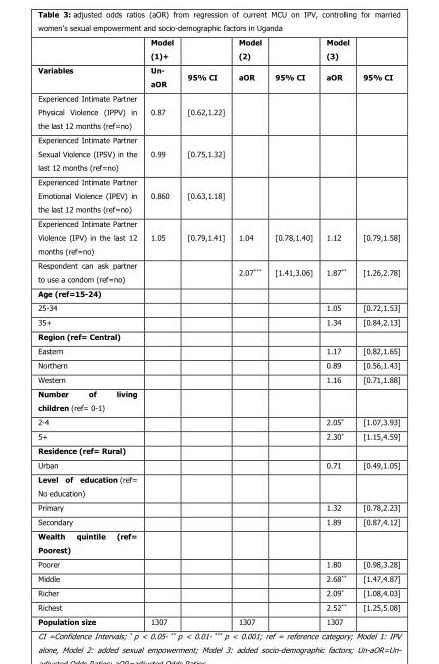table: (37, 36, 399, 625)
table column: (37, 36, 143, 625), (179, 36, 231, 625), (267, 36, 318, 625), (355, 36, 399, 625), (318, 36, 355, 625), (143, 36, 179, 625), (231, 36, 267, 625)
table column header: (37, 36, 399, 90)
table projected row header: (37, 386, 399, 414), (37, 471, 399, 499), (37, 528, 399, 556), (37, 328, 399, 343), (37, 442, 399, 457), (37, 285, 399, 299)
table row: (37, 90, 399, 132), (37, 173, 399, 215), (37, 215, 399, 257), (37, 132, 399, 173), (37, 62, 399, 90), (37, 257, 399, 285), (37, 386, 399, 414), (37, 471, 399, 499), (37, 528, 399, 556), (37, 36, 399, 62), (37, 299, 399, 314), (37, 328, 399, 343), (37, 371, 399, 386), (37, 442, 399, 457), (37, 499, 399, 514), (37, 570, 399, 585), (37, 285, 399, 299), (37, 314, 399, 328), (37, 343, 399, 357), (37, 357, 399, 371), (37, 414, 399, 428), (37, 428, 399, 442), (37, 457, 399, 471), (37, 514, 399, 528), (37, 556, 399, 570), (37, 585, 399, 599), (37, 599, 399, 613), (37, 613, 399, 625)
table spanning cell: (37, 36, 143, 90), (179, 36, 231, 90), (267, 36, 318, 90), (355, 36, 399, 90), (318, 36, 355, 90), (143, 36, 179, 90), (231, 36, 267, 90)
